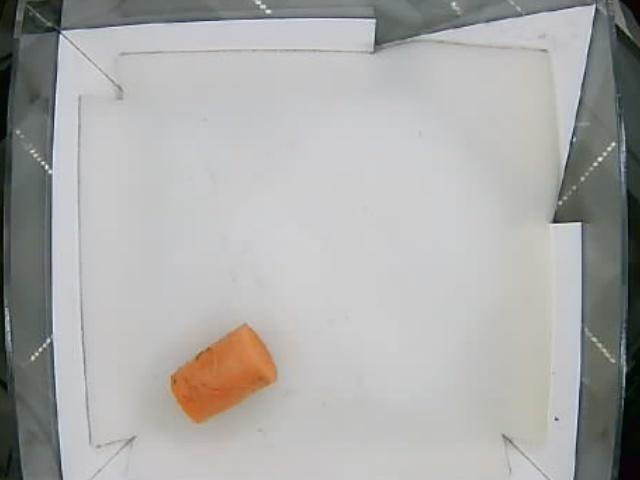Carrot: (167, 323, 279, 424)
